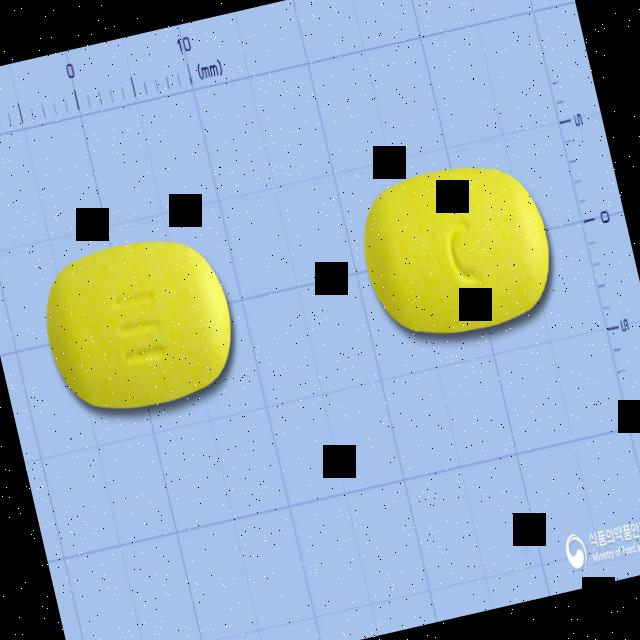Clararoxin: (28, 216, 252, 430), (347, 146, 570, 356)
